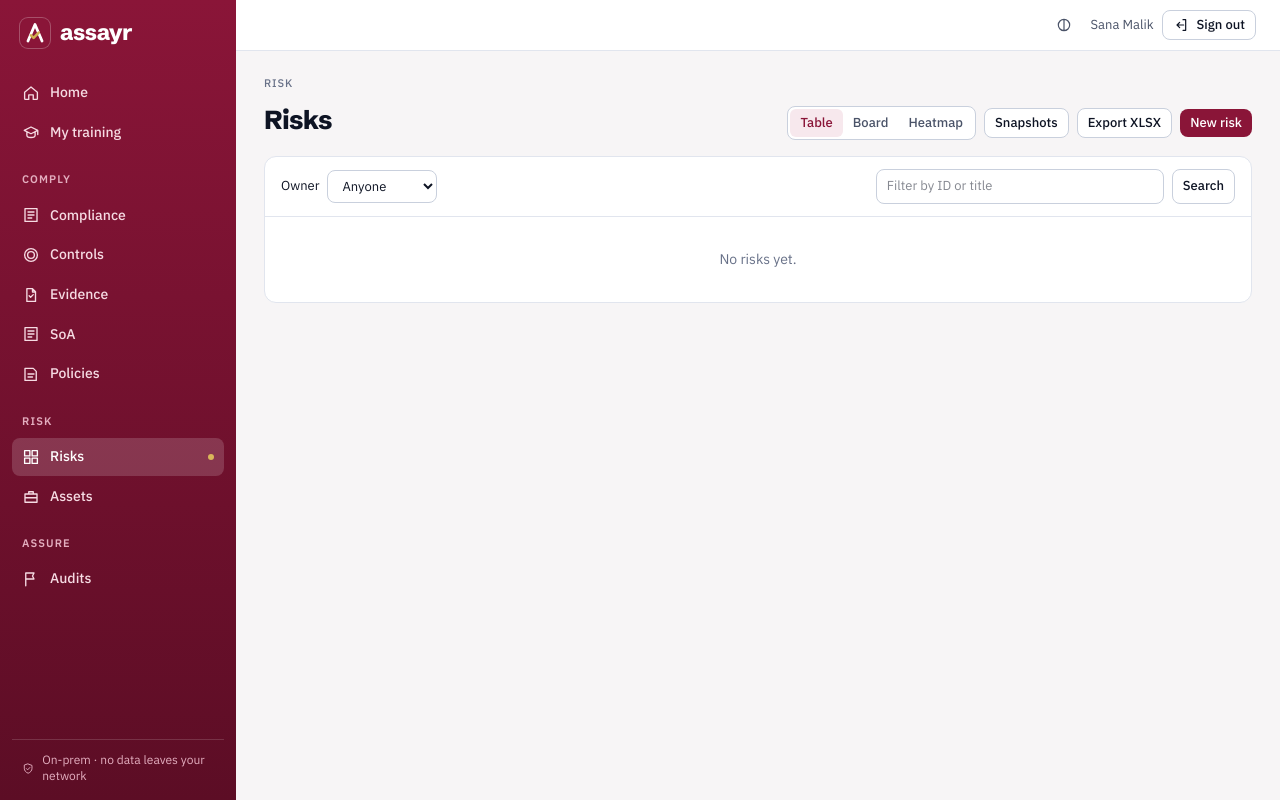
the owner filter can show unassigned risks
Select "Unassigned" in the dropdown labelled "Owner" at (382, 186), box x1=328 y1=170 x2=438 y2=203
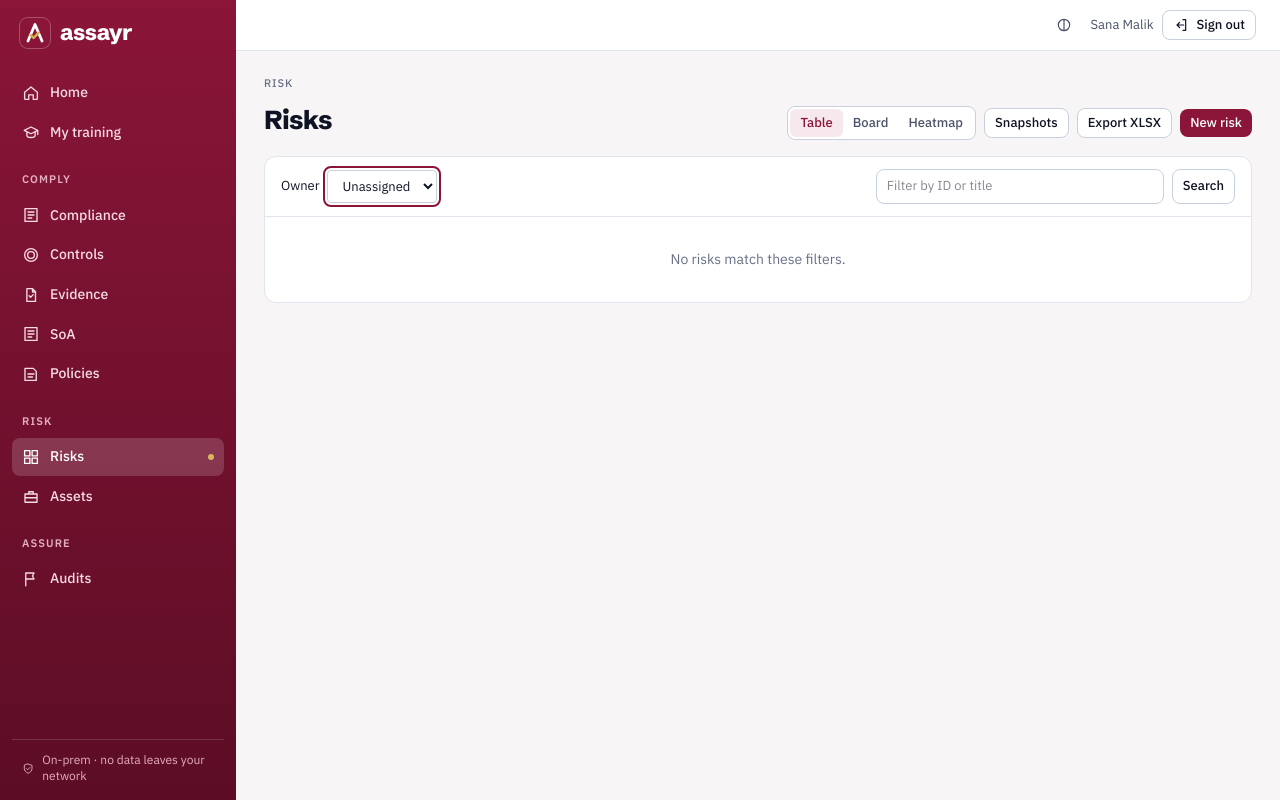
Now the text "No risks match these filters." is shown, box x1=670 y1=250 x2=846 y2=268
